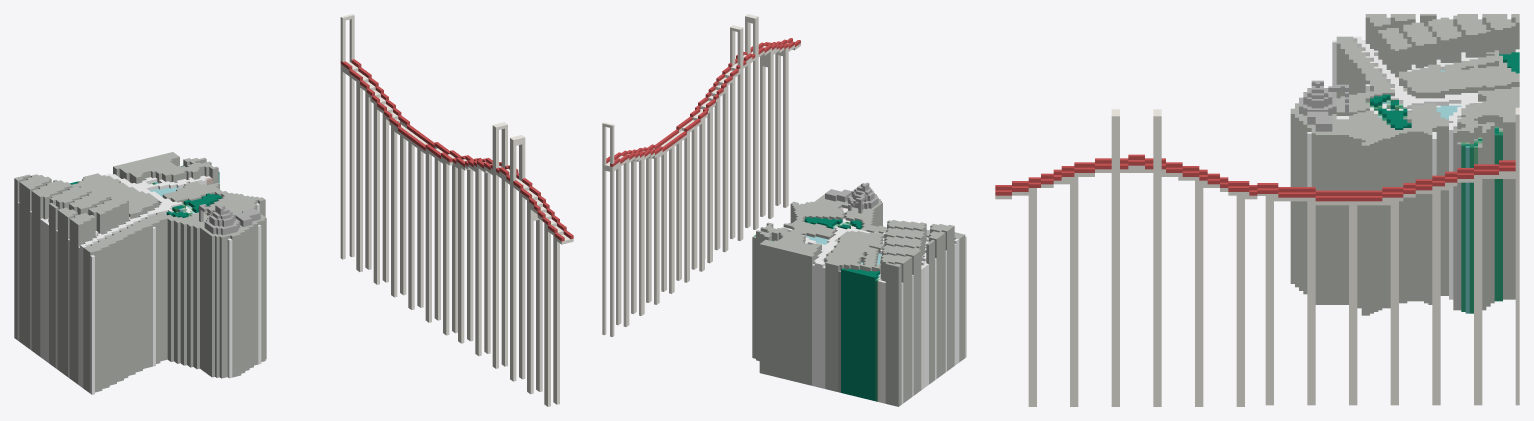
The model's file is 200610 magicvoxel1-7.obj.
The picture shows the model from 3 angles, left to right: view 1: azimuth 30°, elevation 25°; view 2: azimuth 150°, elevation 25°; view 3: azimuth 270°, elevation 25°; orthographic projection. The views are drawn at different scales.
Size of the model in its own units: 11.4 by 7.7 by 12.6.
Materials: 1 (1 with a texture image).
